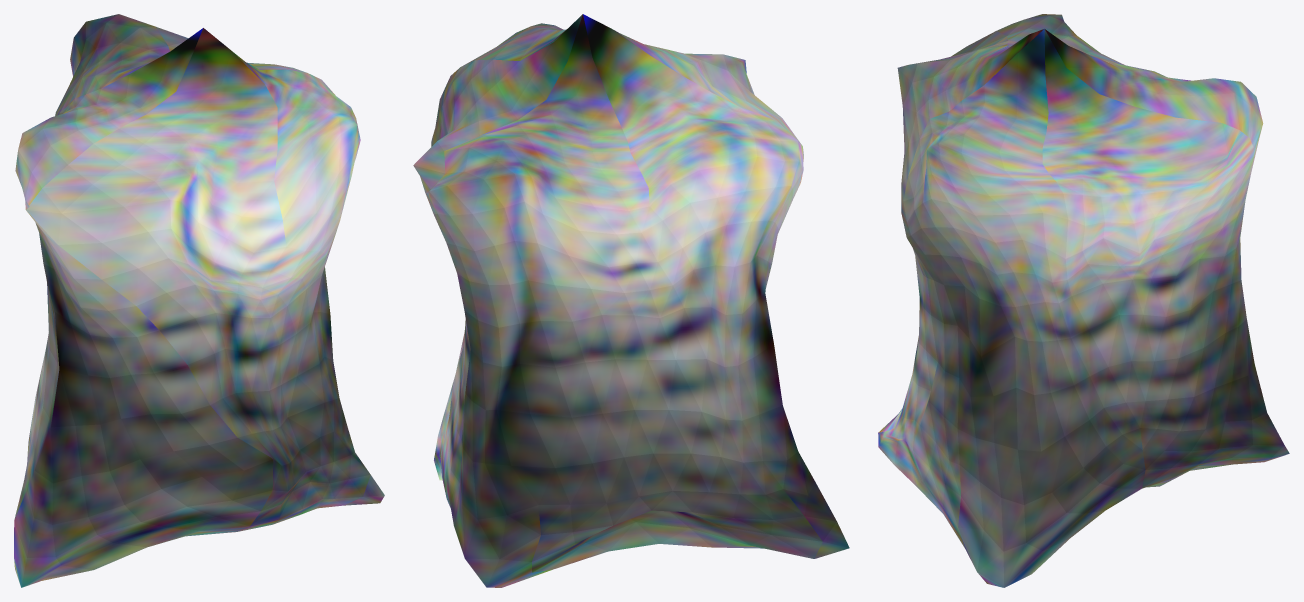
3 views of the same model, side by side, from view 1: azimuth 30°, elevation 25°; view 2: azimuth 150°, elevation 25°; view 3: azimuth 270°, elevation 25° (orthographic). The views are drawn at different scales.
Parts seen in each view (by area): view 1: pMesh1; view 2: pMesh1; view 3: pMesh1.
Part boxes in pixels (x1,y1,x2,y2): pMesh1: [14, 14, 384, 587]; pMesh1: [413, 14, 849, 587]; pMesh1: [878, 14, 1289, 587].
Size of the model in its own units: 1.84 by 2.3 by 1.77.
Materials: 1 (1 with a texture image).
